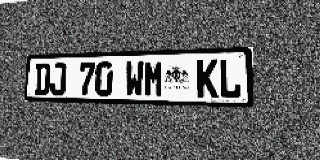0: (95, 61, 113, 96)
7: (78, 62, 95, 96)
D: (34, 63, 51, 95)
J: (50, 63, 66, 96)
K: (197, 59, 218, 98)
L: (219, 58, 242, 98)
M: (144, 60, 164, 97)
W: (125, 61, 144, 97)
